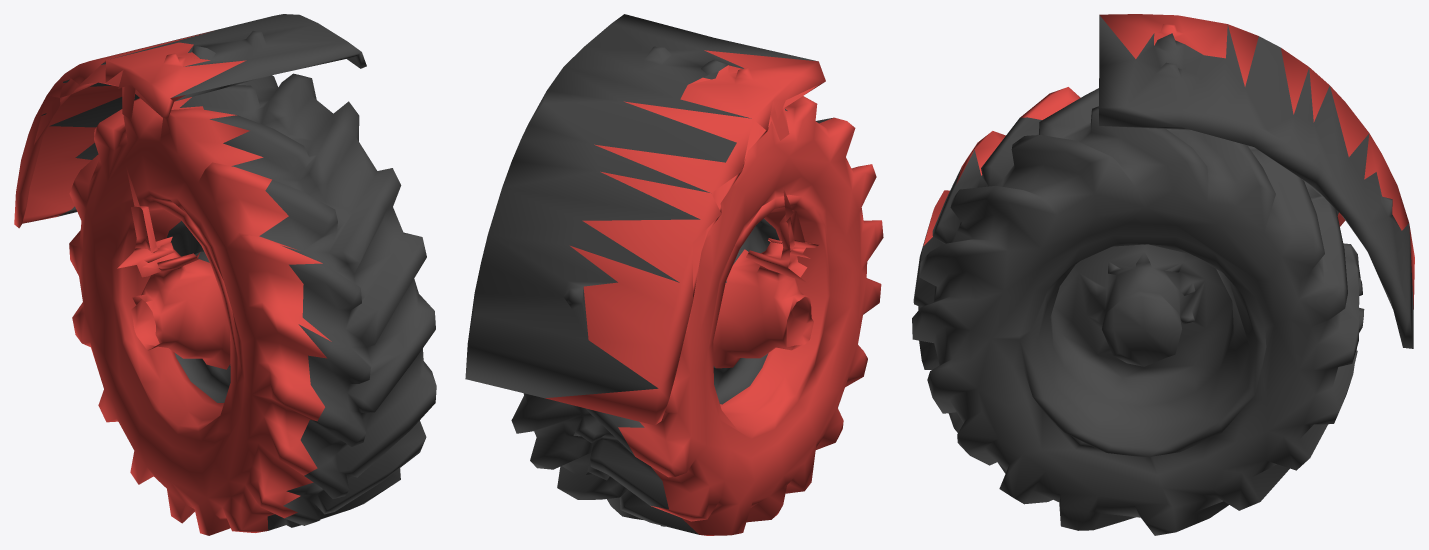
Rendered from mf8.roued.glb.
The picture shows the model from 3 angles, left to right: view 1: azimuth 30°, elevation 25°; view 2: azimuth 150°, elevation 25°; view 3: azimuth 270°, elevation 25°; orthographic projection. The views are drawn at different scales.
Bounding box in the file's own units: 0.8648 × 1.73 × 1.74.
